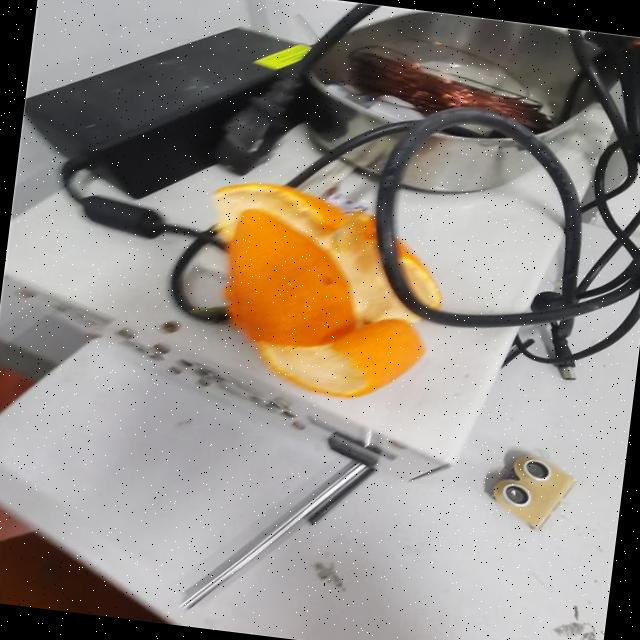orange-peel: (188, 174, 453, 409)
